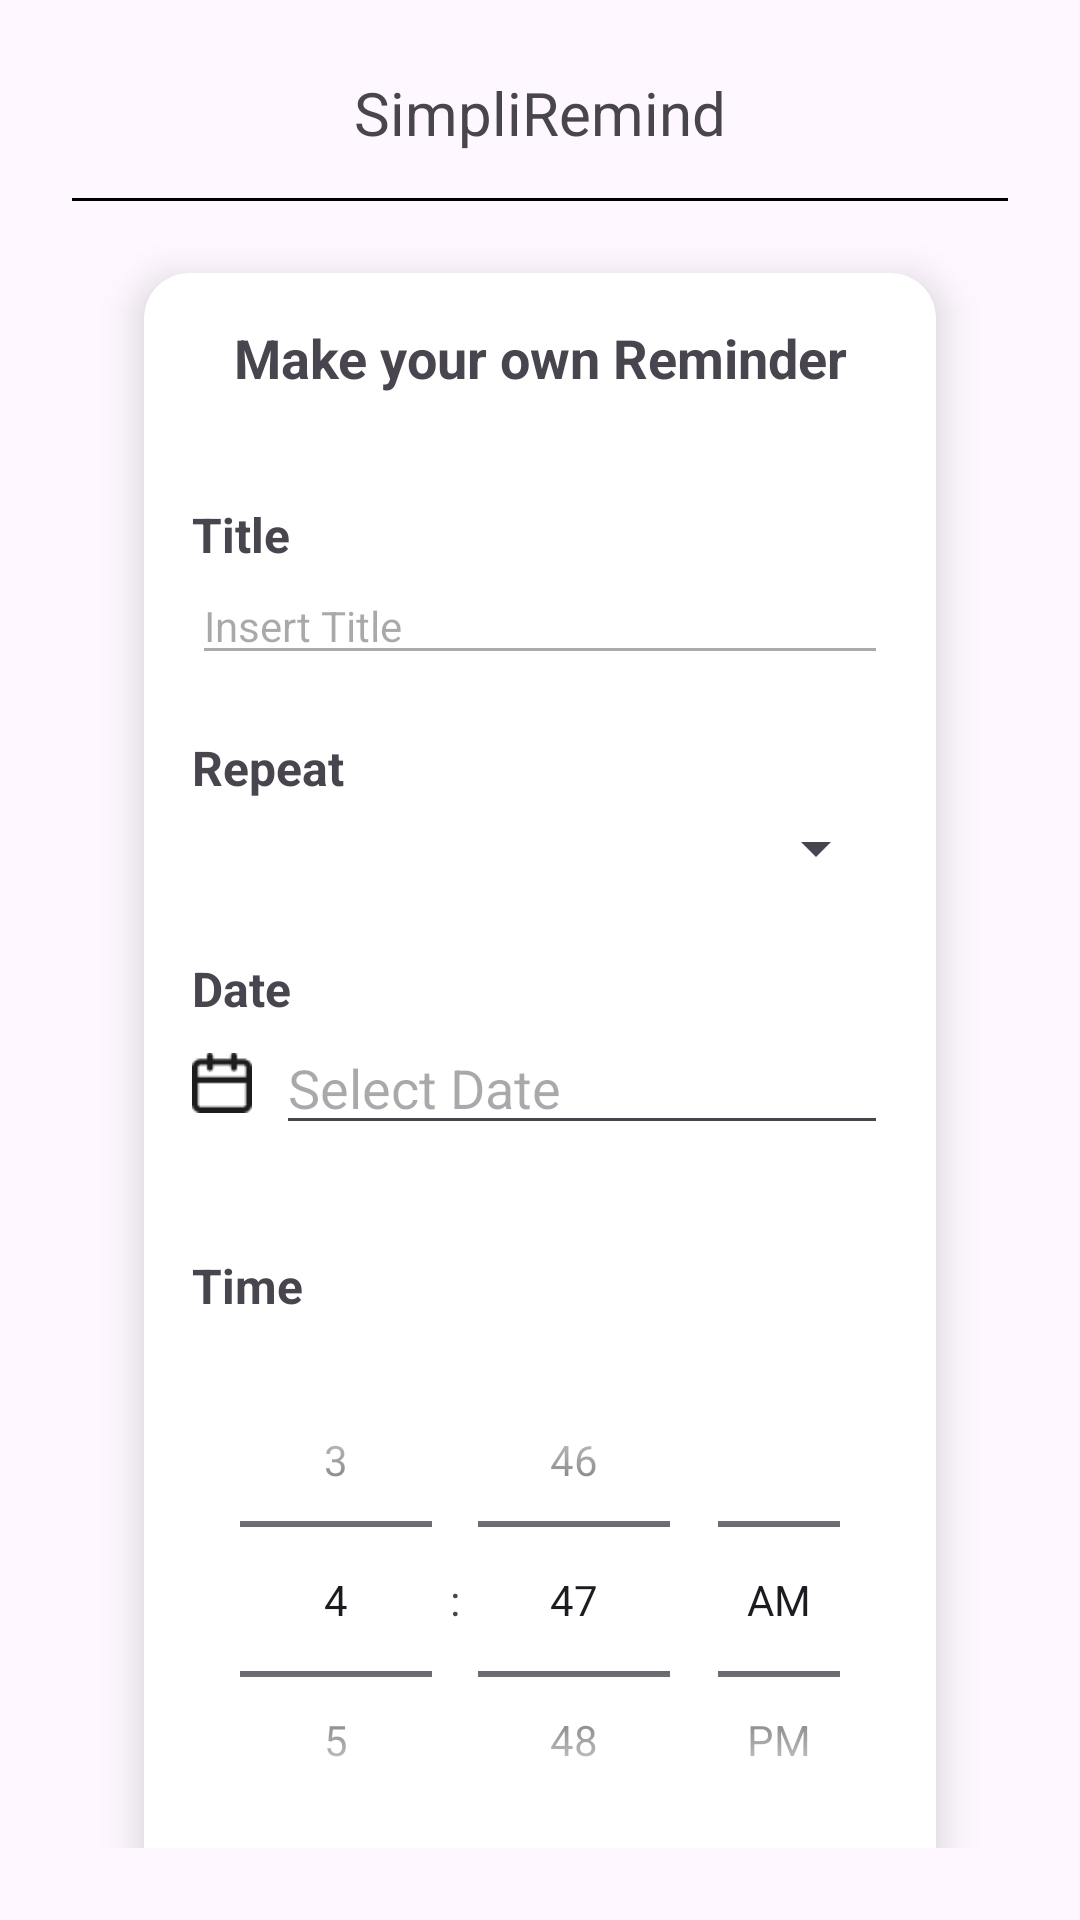

Icons on this 1080*1920 Android screen, each with its box as region(x1, y1, x2, y2):
calendar: region(192, 1053, 252, 1113)
